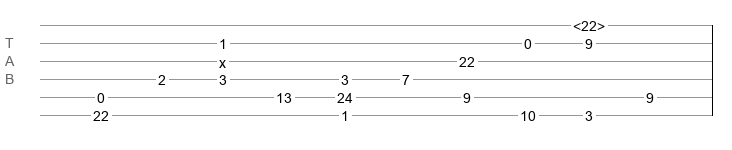0: (97, 90, 105, 100), (524, 36, 532, 46)
1: (219, 36, 227, 46), (341, 108, 349, 118)
10: (520, 108, 536, 118)
13: (276, 90, 292, 100)
2: (158, 72, 166, 82)
22: (93, 108, 109, 118), (459, 54, 475, 64)
24: (337, 90, 353, 100)
3: (219, 72, 227, 82), (341, 72, 349, 82), (585, 108, 593, 118)
7: (402, 72, 410, 82)
9: (463, 90, 471, 100), (585, 36, 593, 46), (646, 90, 654, 100)
harmonic: (573, 18, 605, 28)
x: (219, 55, 226, 63)
